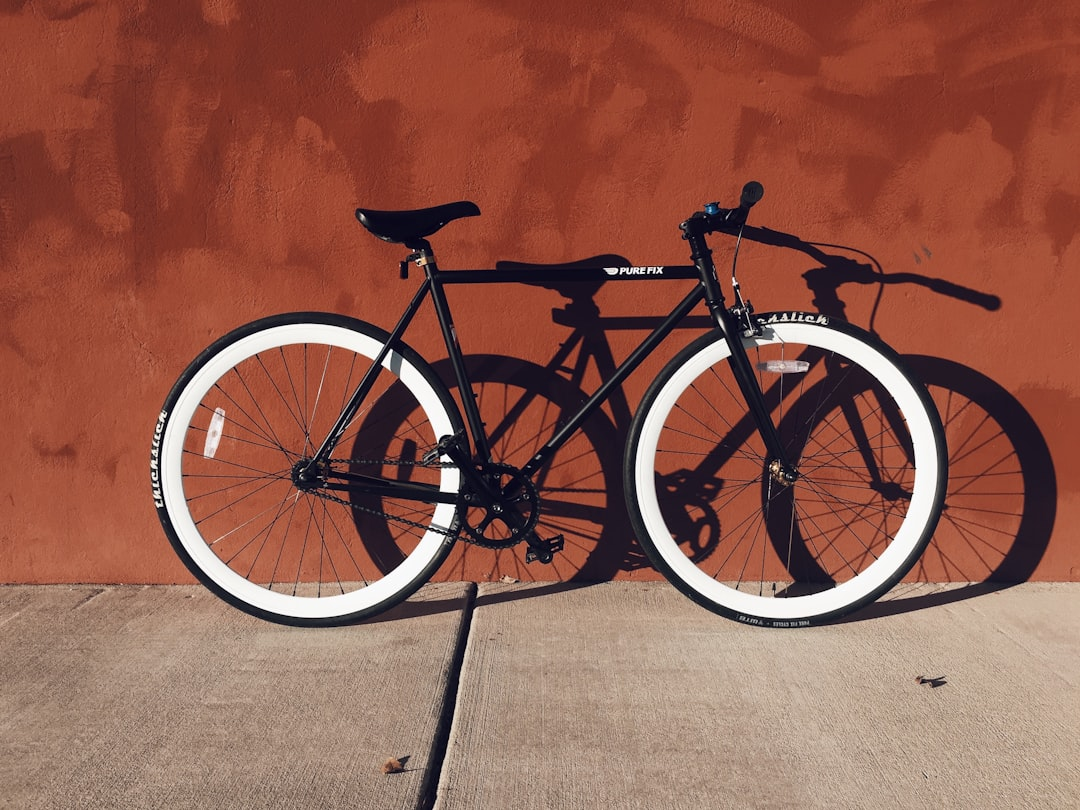bicycle: (149, 181, 949, 631)
